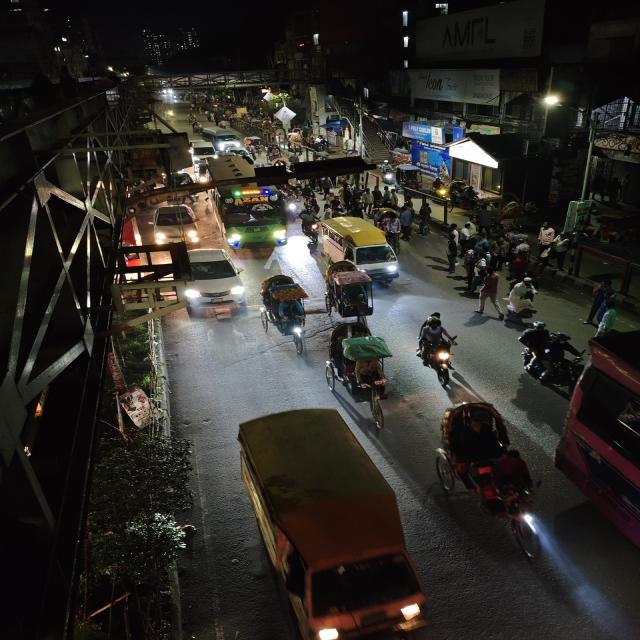bus: (561, 322, 640, 627), (217, 199, 290, 249)
car: (179, 246, 247, 318), (140, 202, 202, 244), (206, 129, 244, 153), (188, 144, 217, 160)
human_hauler: (228, 408, 437, 640), (316, 215, 404, 281)
motorcycle: (411, 310, 467, 392), (514, 324, 580, 391), (297, 206, 322, 239)
pedestrian: (474, 269, 510, 321), (592, 288, 625, 334), (586, 280, 614, 328), (508, 279, 540, 319), (460, 251, 484, 291), (440, 233, 463, 273), (534, 221, 557, 260), (509, 252, 533, 283), (398, 203, 418, 240), (416, 198, 434, 236), (490, 234, 510, 268), (358, 187, 380, 215), (323, 197, 344, 220), (387, 187, 402, 210)
rickshaw: (427, 398, 545, 560), (322, 321, 396, 418), (257, 272, 313, 354), (324, 259, 379, 322)
